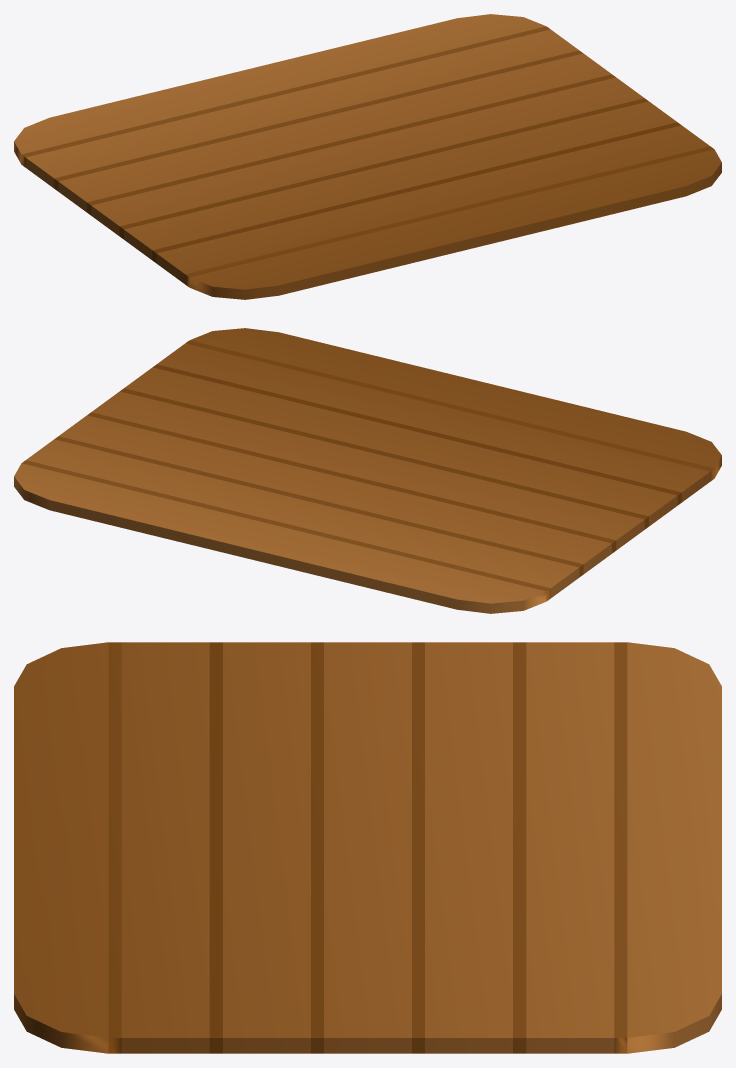
The model's file is Sushi Table.fbx.
The picture shows the model from 3 angles, top to bottom: view 1: azimuth 30°, elevation 25°; view 2: azimuth 150°, elevation 25°; view 3: azimuth 270°, elevation 25°; orthographic projection. The views are drawn at different scales.
Visible parts, largest first — view 1: Sushi Table; view 2: Sushi Table; view 3: Sushi Table.
Part boxes in pixels (<box>): Sushi Table: <box>14,14,721,299</box>; Sushi Table: <box>14,328,721,613</box>; Sushi Table: <box>14,642,721,1053</box>.
Size of the model in its own units: 0.4096 by 0.00763 by 0.3097.
